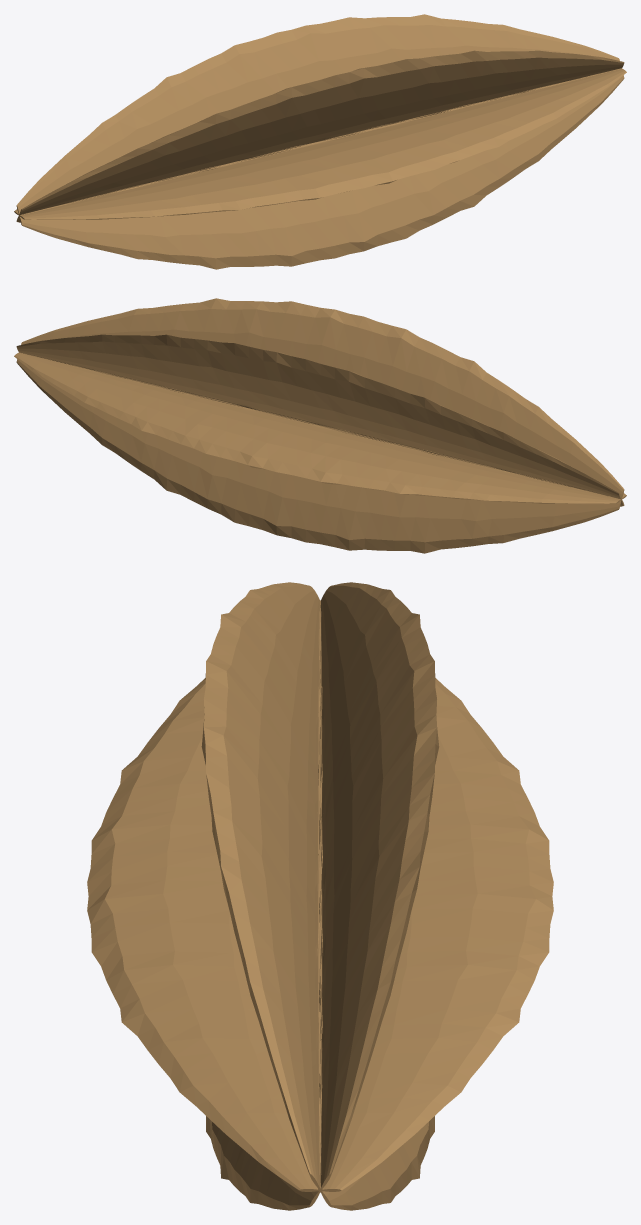
The picture shows the model from 3 angles, top to bottom: view 1: azimuth 30°, elevation 25°; view 2: azimuth 150°, elevation 25°; view 3: azimuth 270°, elevation 25°; orthographic projection. The views are drawn at different scales.
Visible parts, largest first — view 1: six_bilaminar_radial_vanes_integrated_hierarchical_ribbed_fo; view 2: six_bilaminar_radial_vanes_integrated_hierarchical_ribbed_fo; view 3: six_bilaminar_radial_vanes_integrated_hierarchical_ribbed_fo.
Boxes of the visible parts, left/top/right/bottom form: six_bilaminar_radial_vanes_integrated_hierarchical_ribbed_fo: left=14, top=14, right=626, bottom=269; six_bilaminar_radial_vanes_integrated_hierarchical_ribbed_fo: left=14, top=298, right=626, bottom=553; six_bilaminar_radial_vanes_integrated_hierarchical_ribbed_fo: left=87, top=582, right=553, bottom=1210.
Bounding box in the file's own units: 0.135 × 0.0392 × 0.0453.
